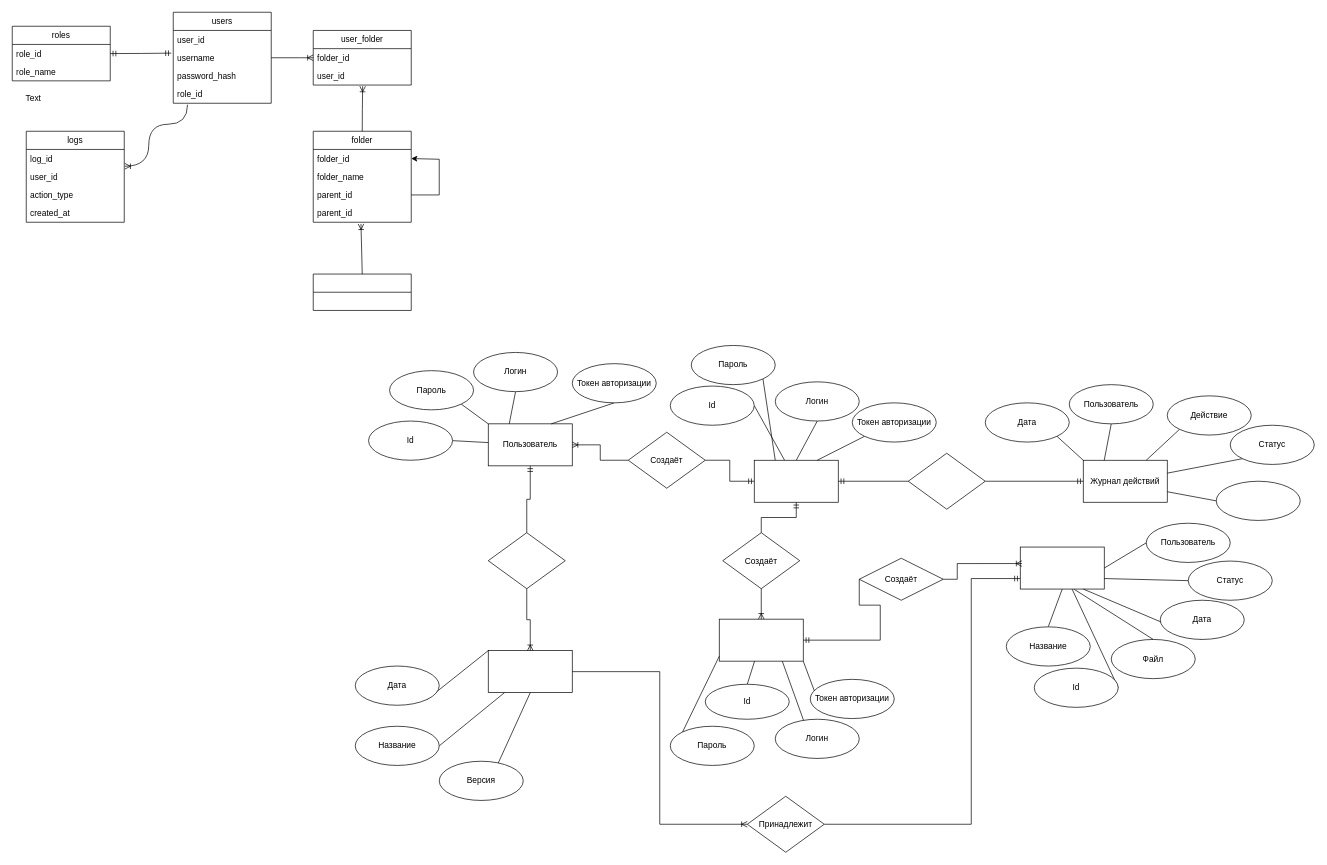
Image size: 1327x865. Some labels were removed from this diagram. Each missing label, with the centre of its shape:
file: (362,291)
Администратор: (796,481)
Документ: (530,671)
Каталог: (1062,567)
Модуль: (1258,500)
Получает: (526,560)
Просматривает: (946,481)
Редактор: (761,639)
